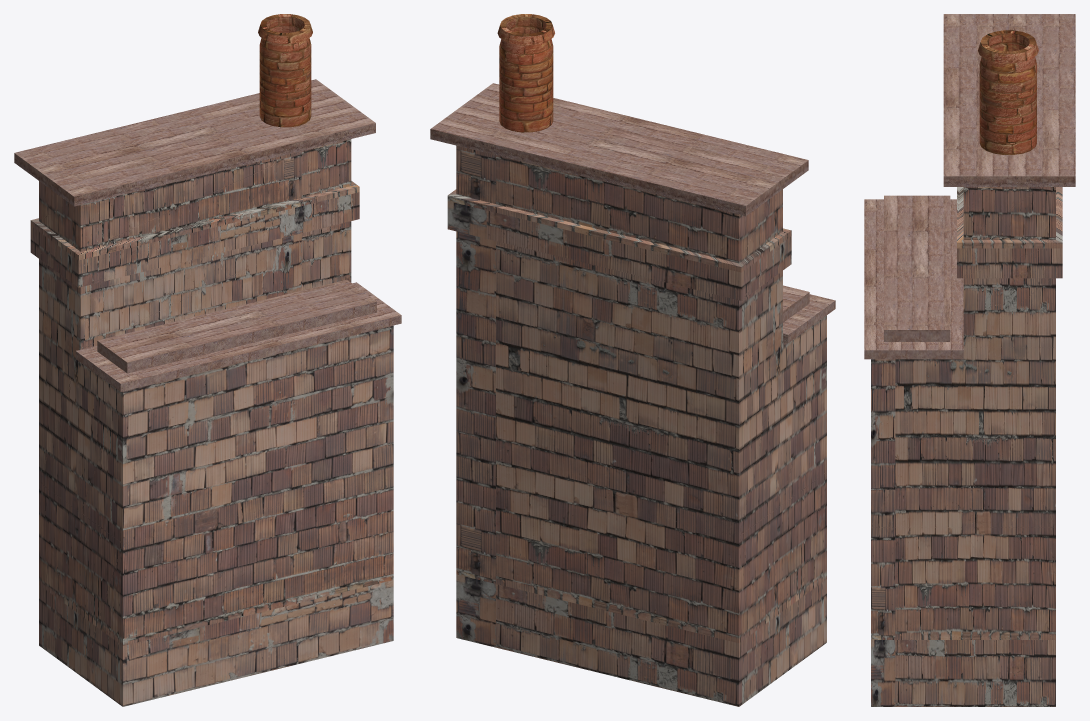
File: Updated Chimney.fbx
3 renders of one model, left to right at view 1: azimuth 30°, elevation 25°; view 2: azimuth 150°, elevation 25°; view 3: azimuth 270°, elevation 25°, orthographic. The views are drawn at different scales.
Parts seen in each view (by area): view 1: Chimney Place, Chimney Plate002, Chimney Plate001, Chimney; view 2: Chimney Place, Chimney Plate002, Chimney, Chimney Plate001; view 3: Chimney Place, Chimney Plate002, Chimney Plate001, Chimney.
Part boxes in pixels (box(x1,y1,x2,y2)): Chimney Place: box(30, 139, 393, 706); Chimney Plate002: box(14, 79, 375, 206); Chimney Plate001: box(75, 279, 401, 391); Chimney: box(258, 14, 312, 127); Chimney Place: box(447, 145, 826, 706); Chimney Plate002: box(430, 83, 808, 215); Chimney: box(497, 14, 554, 132); Chimney Plate001: box(783, 285, 835, 343); Chimney Place: box(871, 187, 1062, 706); Chimney Plate002: box(943, 14, 1075, 186); Chimney Plate001: box(864, 195, 963, 359); Chimney: box(978, 30, 1038, 154).
Bounding box in the file's own units: 4.76 × 8.77 × 2.63.
